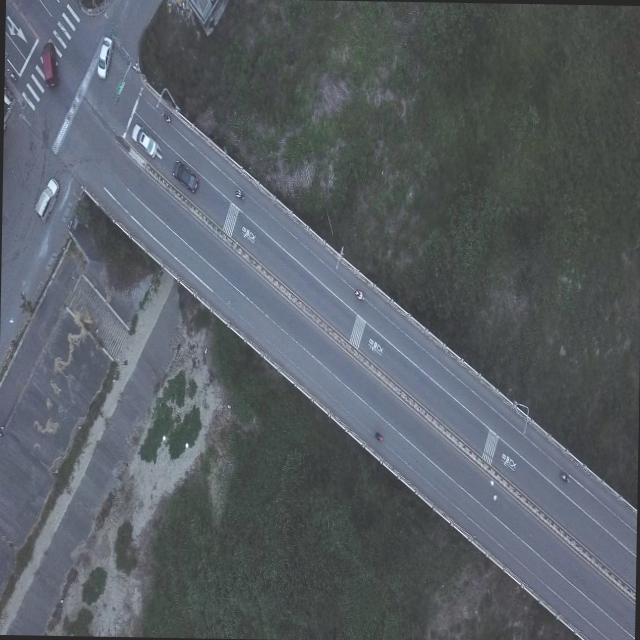bike: (558, 467, 570, 485), (354, 288, 363, 300), (234, 188, 243, 198)
car: (34, 177, 58, 221), (171, 158, 199, 194), (130, 123, 157, 158), (39, 40, 59, 87), (96, 35, 113, 79), (3, 86, 13, 130)
